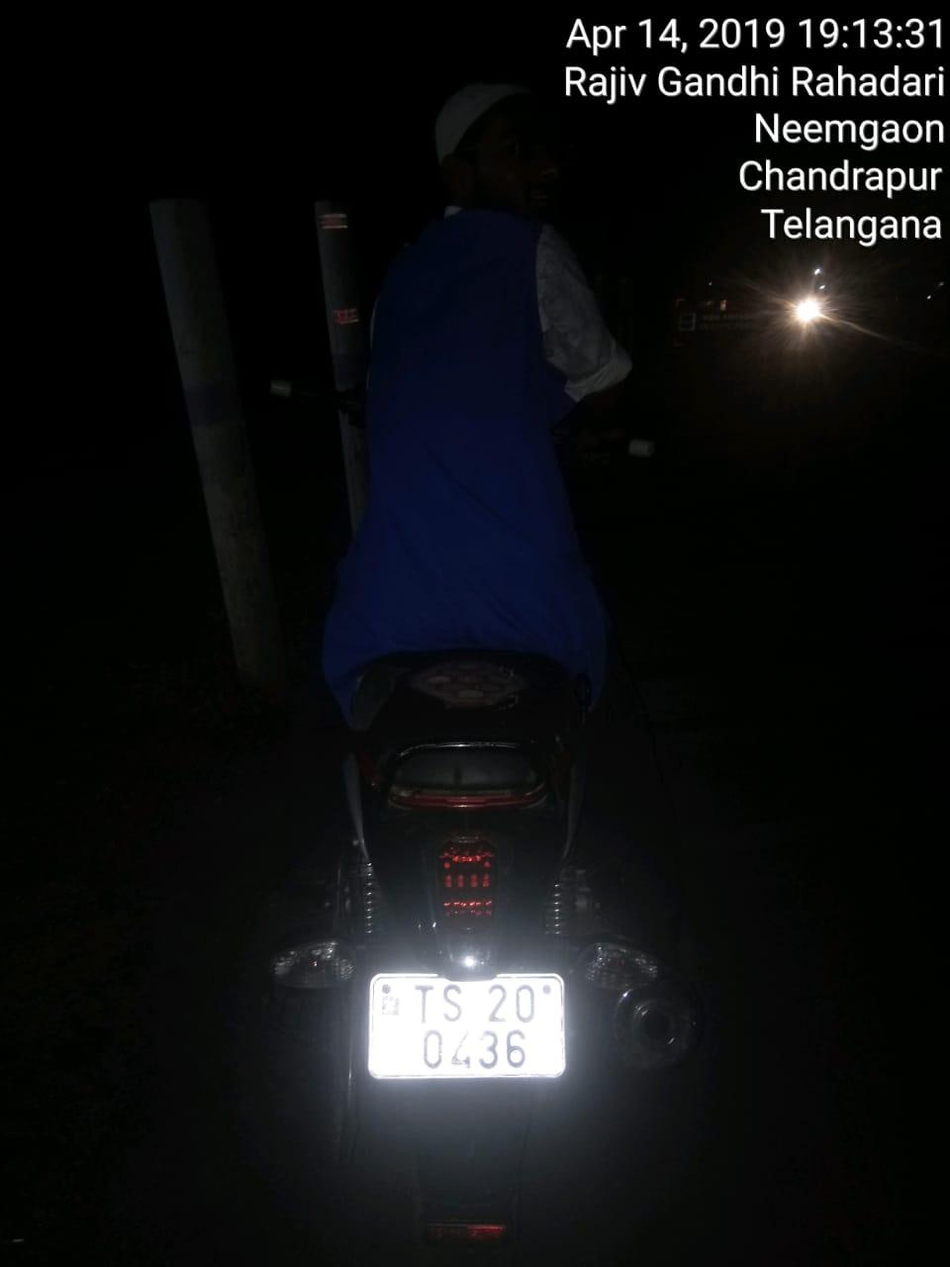plate: (340, 942, 585, 1120)
